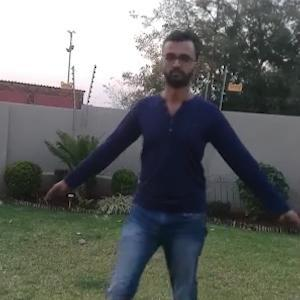land: (81, 64, 291, 298)
